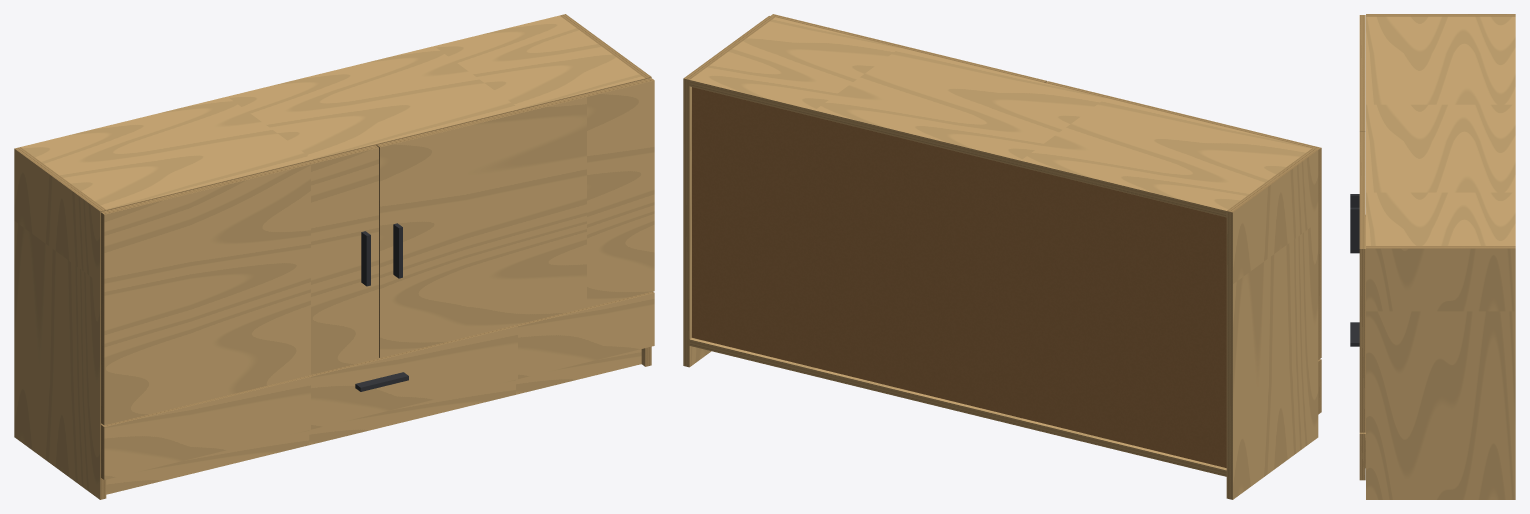
Rendered from HIN-SDB-std.glb.
3 renders of one model, left to right at view 1: azimuth 30°, elevation 25°; view 2: azimuth 150°, elevation 25°; view 3: azimuth 270°, elevation 25°, orthographic. The views are drawn at different scales.
Parts seen in each view (by area): view 1: door-l:sheet:eyJtIjoicGx5Iiwic2lkZSI6ImZhY2UiLCJzZWVkIjoyLCJ, door-r:sheet:eyJtIjoicGx5Iiwic2lkZSI6ImZhY2UiLCJzZWVkIjoxLCJ, top:sheet:eyJtIjoicGx5Iiwic2lkZSI6ImZhY2UiLCJzZWVkIjo2LCJ2ZW, d1-front:sheet:eyJtIjoicGx5Iiwic2lkZSI6ImZhY2UiLCJzZWVkIjo2L, side-l:sheet:eyJtIjoicGx5Iiwic2lkZSI6ImZhY2UiLCJzZWVkIjoxLCJ, plinth:sheet:eyJtIjoicGx5Iiwic2lkZSI6ImZhY2UiLCJzZWVkIjozLCJ, pull, d1-front:sheet:eyJtIjoicGx5Iiwic2lkZSI6ImVkZ2UtbG9uZyIsInNlZ, door-l:sheet:eyJtIjoicGx5Iiwic2lkZSI6ImVkZ2UtbG9uZyIsInNlZWQ, door-r:sheet:eyJtIjoicGx5Iiwic2lkZSI6ImVkZ2UtbG9uZyIsInNlZWQ, top:sheet:eyJtIjoicGx5Iiwic2lkZSI6ImVkZ2UtbG9uZyIsInNlZWQiOj, door-l:sheet:eyJtIjoicGx5Iiwic2lkZSI6ImVkZ2UtZW5kIiwic2VlZCI; view 2: back:sheet:eyJtIjoibWRmIiwic2lkZSI6ImZhY2UiLCJzZWVkIjoyLCJ0a, top:sheet:eyJtIjoicGx5Iiwic2lkZSI6ImZhY2UiLCJzZWVkIjo2LCJ2ZW, side-l:sheet:eyJtIjoicGx5Iiwic2lkZSI6ImZhY2UiLCJzZWVkIjoxLCJ, bottom:sheet:eyJtIjoicGx5Iiwic2lkZSI6ImVkZ2UtbG9uZyIsInNlZWQ, top:sheet:eyJtIjoicGx5Iiwic2lkZSI6ImVkZ2UtbG9uZyIsInNlZWQiOj, side-r:sheet:eyJtIjoicGx5Iiwic2lkZSI6ImVkZ2UtbG9uZyIsInNlZWQ, side-l:sheet:eyJtIjoicGx5Iiwic2lkZSI6ImVkZ2UtbG9uZyIsInNlZWQ, bottom:sheet:eyJtIjoicGx5Iiwic2lkZSI6ImZhY2UiLCJzZWVkIjowLCJ, side-r:sheet:eyJtIjoicGx5Iiwic2lkZSI6ImZhY2UiLCJzZWVkIjozLCJ, door-l:sheet:eyJtIjoicGx5Iiwic2lkZSI6ImVkZ2UtbG9uZyIsInNlZWQ, door-r:sheet:eyJtIjoicGx5Iiwic2lkZSI6ImVkZ2UtbG9uZyIsInNlZWQ, door-l:sheet:eyJtIjoicGx5Iiwic2lkZSI6ImVkZ2UtZW5kIiwic2VlZCI; view 3: side-r:sheet:eyJtIjoicGx5Iiwic2lkZSI6ImZhY2UiLCJzZWVkIjozLCJ, top:sheet:eyJtIjoicGx5Iiwic2lkZSI6ImZhY2UiLCJzZWVkIjo2LCJ2ZW, door-r:sheet:eyJtIjoicGx5Iiwic2lkZSI6ImVkZ2UtZW5kIiwic2VlZCI, pull, door-l:sheet:eyJtIjoicGx5Iiwic2lkZSI6ImVkZ2UtbG9uZyIsInNlZWQ, door-r:sheet:eyJtIjoicGx5Iiwic2lkZSI6ImVkZ2UtbG9uZyIsInNlZWQ, side-l:sheet:eyJtIjoicGx5Iiwic2lkZSI6ImVkZ2UtZW5kIiwic2VlZCI, side-r:sheet:eyJtIjoicGx5Iiwic2lkZSI6ImVkZ2UtZW5kIiwic2VlZCI, d1-front:sheet:eyJtIjoicGx5Iiwic2lkZSI6ImVkZ2UtZW5kIiwic2VlZ, d1-box-front:sheet:eyJtIjoicGx5Iiwic2lkZSI6ImVkZ2UtbG9uZyIsI.
Boxes of the visible parts, x1,y1,x2,y2 form: door-l:sheet:eyJtIjoicGx5Iiwic2lkZSI6ImZhY2UiLCJzZWVkIjoyLCJ: (104,147,378,425); door-r:sheet:eyJtIjoicGx5Iiwic2lkZSI6ImZhY2UiLCJzZWVkIjoxLCJ: (380,80,654,357); top:sheet:eyJtIjoicGx5Iiwic2lkZSI6ImZhY2UiLCJzZWVkIjo2LCJ2ZW: (21,15,644,209); d1-front:sheet:eyJtIjoicGx5Iiwic2lkZSI6ImZhY2UiLCJzZWVkIjo2L: (104,293,654,479); side-l:sheet:eyJtIjoicGx5Iiwic2lkZSI6ImZhY2UiLCJzZWVkIjoxLCJ: (14,149,100,499); plinth:sheet:eyJtIjoicGx5Iiwic2lkZSI6ImZhY2UiLCJzZWVkIjozLCJ: (106,349,641,494); pull: (355,223,408,391); d1-front:sheet:eyJtIjoicGx5Iiwic2lkZSI6ImVkZ2UtbG9uZyIsInNlZ: (101,291,654,426); door-l:sheet:eyJtIjoicGx5Iiwic2lkZSI6ImVkZ2UtbG9uZyIsInNlZWQ: (101,145,378,214); door-r:sheet:eyJtIjoicGx5Iiwic2lkZSI6ImVkZ2UtbG9uZyIsInNlZWQ: (377,78,654,147); top:sheet:eyJtIjoicGx5Iiwic2lkZSI6ImVkZ2UtbG9uZyIsInNlZWQiOj: (106,78,645,210); door-l:sheet:eyJtIjoicGx5Iiwic2lkZSI6ImVkZ2UtZW5kIiwic2VlZCI: (101,212,104,424); back:sheet:eyJtIjoibWRmIiwic2lkZSI6ImZhY2UiLCJzZWVkIjoyLCJ0a: (692,87,1226,467); top:sheet:eyJtIjoicGx5Iiwic2lkZSI6ImZhY2UiLCJzZWVkIjo2LCJ2ZW: (690,17,1311,210); side-l:sheet:eyJtIjoicGx5Iiwic2lkZSI6ImZhY2UiLCJzZWVkIjoxLCJ: (1233,150,1318,499); bottom:sheet:eyJtIjoicGx5Iiwic2lkZSI6ImVkZ2UtbG9uZyIsInNlZWQ: (689,339,1226,476); top:sheet:eyJtIjoicGx5Iiwic2lkZSI6ImVkZ2UtbG9uZyIsInNlZWQiOj: (689,80,1226,217); side-r:sheet:eyJtIjoicGx5Iiwic2lkZSI6ImVkZ2UtbG9uZyIsInNlZWQ: (683,78,689,367); side-l:sheet:eyJtIjoicGx5Iiwic2lkZSI6ImVkZ2UtbG9uZyIsInNlZWQ: (1226,211,1232,499); bottom:sheet:eyJtIjoicGx5Iiwic2lkZSI6ImZhY2UiLCJzZWVkIjowLCJ: (690,338,1226,470); side-r:sheet:eyJtIjoicGx5Iiwic2lkZSI6ImZhY2UiLCJzZWVkIjozLCJ: (689,86,711,366); door-l:sheet:eyJtIjoicGx5Iiwic2lkZSI6ImVkZ2UtbG9uZyIsInNlZWQ: (1045,81,1321,149); door-r:sheet:eyJtIjoicGx5Iiwic2lkZSI6ImVkZ2UtbG9uZyIsInNlZWQ: (771,14,1046,82); door-l:sheet:eyJtIjoicGx5Iiwic2lkZSI6ImVkZ2UtZW5kIiwic2VlZCI: (1318,148,1321,359); side-r:sheet:eyJtIjoicGx5Iiwic2lkZSI6ImZhY2UiLCJzZWVkIjozLCJ: (1366,248,1515,499); top:sheet:eyJtIjoicGx5Iiwic2lkZSI6ImZhY2UiLCJzZWVkIjo2LCJ2ZW: (1366,16,1515,245); door-r:sheet:eyJtIjoicGx5Iiwic2lkZSI6ImVkZ2UtZW5kIiwic2VlZCI: (1359,249,1365,432); pull: (1350,194,1359,346); door-l:sheet:eyJtIjoicGx5Iiwic2lkZSI6ImVkZ2UtbG9uZyIsInNlZWQ: (1359,15,1365,131); door-r:sheet:eyJtIjoicGx5Iiwic2lkZSI6ImVkZ2UtbG9uZyIsInNlZWQ: (1359,132,1365,248); side-l:sheet:eyJtIjoicGx5Iiwic2lkZSI6ImVkZ2UtZW5kIiwic2VlZCI: (1366,14,1515,16); side-r:sheet:eyJtIjoicGx5Iiwic2lkZSI6ImVkZ2UtZW5kIiwic2VlZCI: (1366,246,1515,248); d1-front:sheet:eyJtIjoicGx5Iiwic2lkZSI6ImVkZ2UtZW5kIiwic2VlZ: (1359,434,1365,480); d1-box-front:sheet:eyJtIjoicGx5Iiwic2lkZSI6ImVkZ2UtbG9uZyIsI: (1365,217,1365,437).
Bounding box in the file's own units: 1.6 × 0.8 × 0.4769.
Materials: 55 (54 with a texture image).
